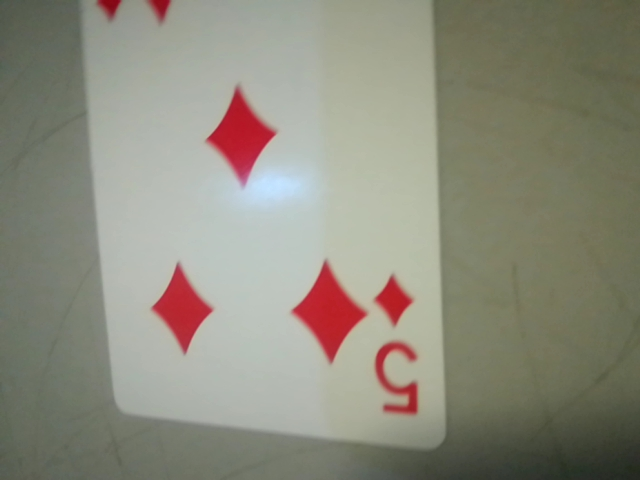fk 5: (356, 257, 438, 429)
